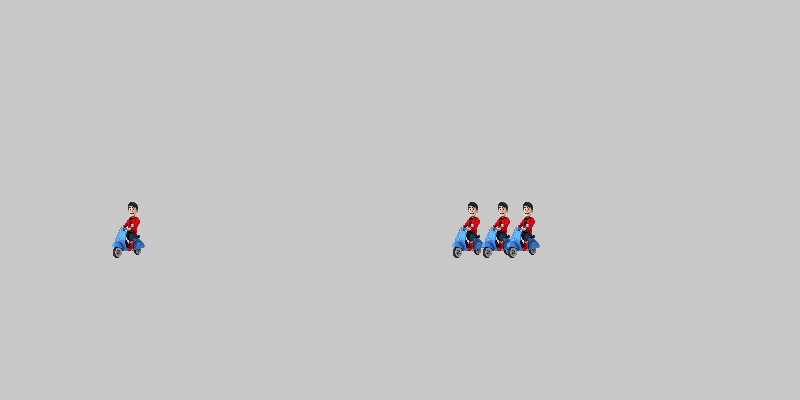no_helmet: (100, 200, 160, 260), (440, 200, 500, 260), (470, 200, 530, 260), (495, 200, 555, 260)
